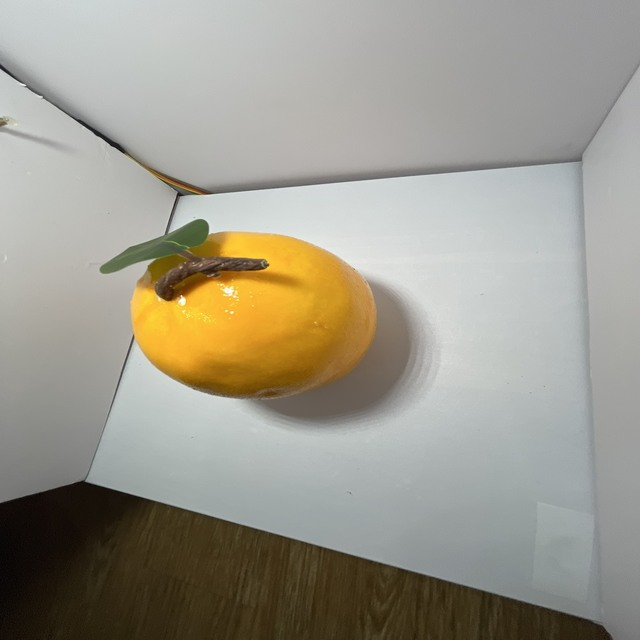Cam vang: (120, 219, 382, 408)
